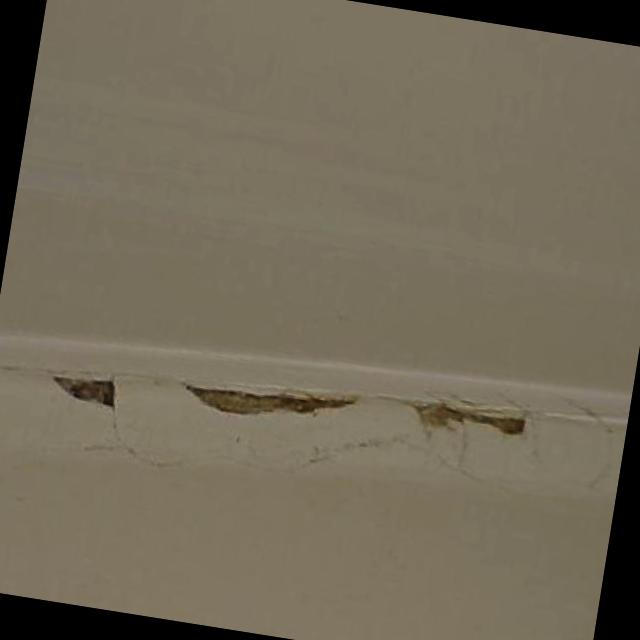crack: (0, 360, 177, 470), (180, 383, 364, 419), (396, 395, 526, 444)
